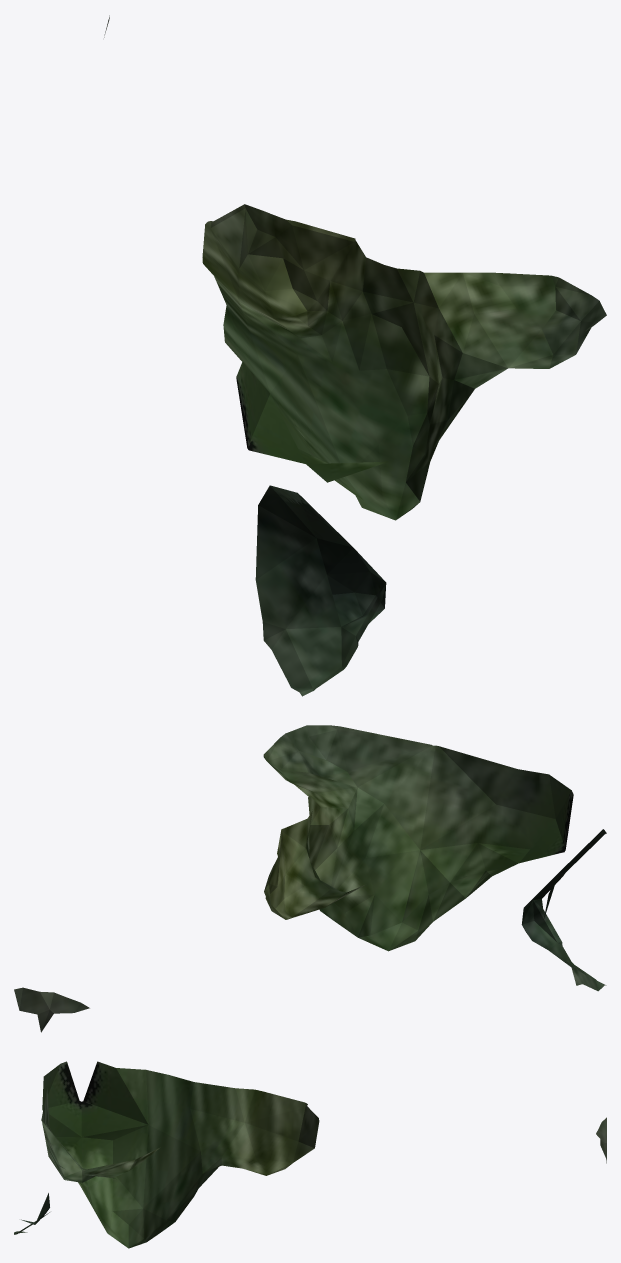
The picture shows the model from 3 angles, top to bottom: view 1: azimuth 30°, elevation 25°; view 2: azimuth 150°, elevation 25°; view 3: azimuth 270°, elevation 25°; orthographic projection. The views are drawn at different scales.
Bounding box in the file's own units: 2.55 × 1.88 × 5.9.
Materials: 1 (1 with a texture image).
